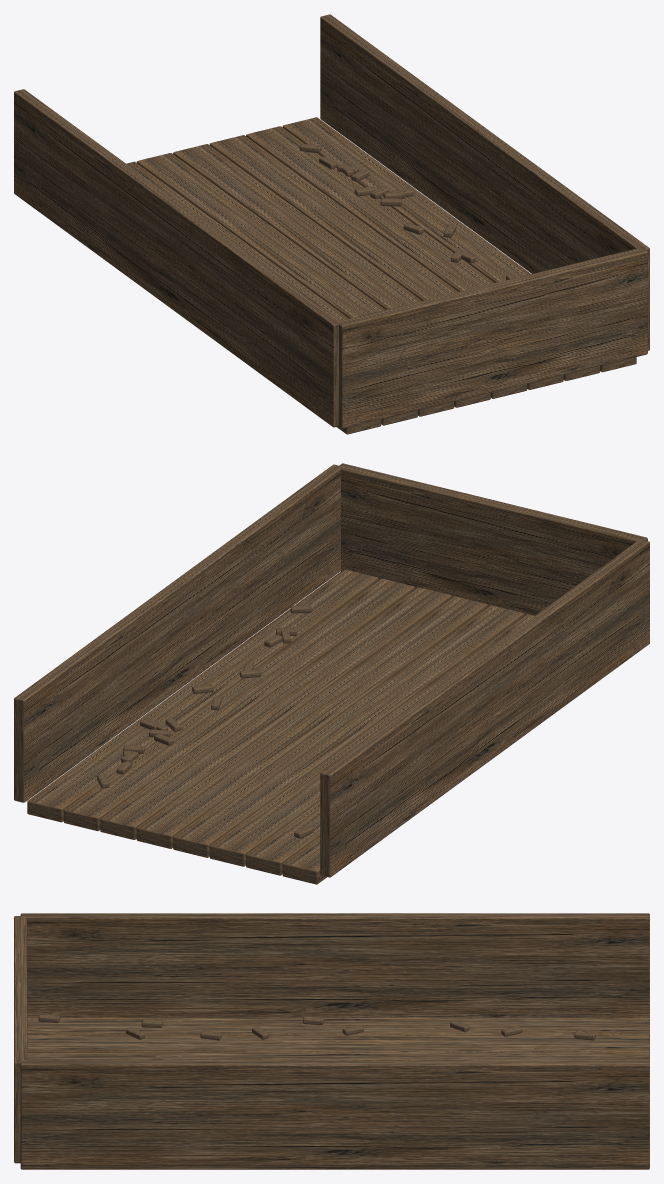
File: alcove_sector.glb
3 views of the same model, one above another, from view 1: azimuth 30°, elevation 25°; view 2: azimuth 150°, elevation 25°; view 3: azimuth 270°, elevation 25° (orthographic).
Visible parts, largest first — view 1: alcove_sector_mesh; view 2: alcove_sector_mesh; view 3: alcove_sector_mesh.
Boxes of the visible parts, x1,y1,x2,y2 form: alcove_sector_mesh: [14, 14, 649, 434]; alcove_sector_mesh: [14, 463, 649, 884]; alcove_sector_mesh: [14, 913, 649, 1169].
Bounding box in the file's own units: 4.35 × 1.48 × 7.68.
Materials: 1 (1 with a texture image).
